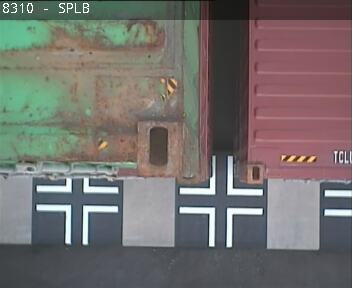groundmarker_1: (35, 204, 119, 245), (179, 206, 263, 247), (178, 155, 262, 196), (35, 176, 120, 194)
